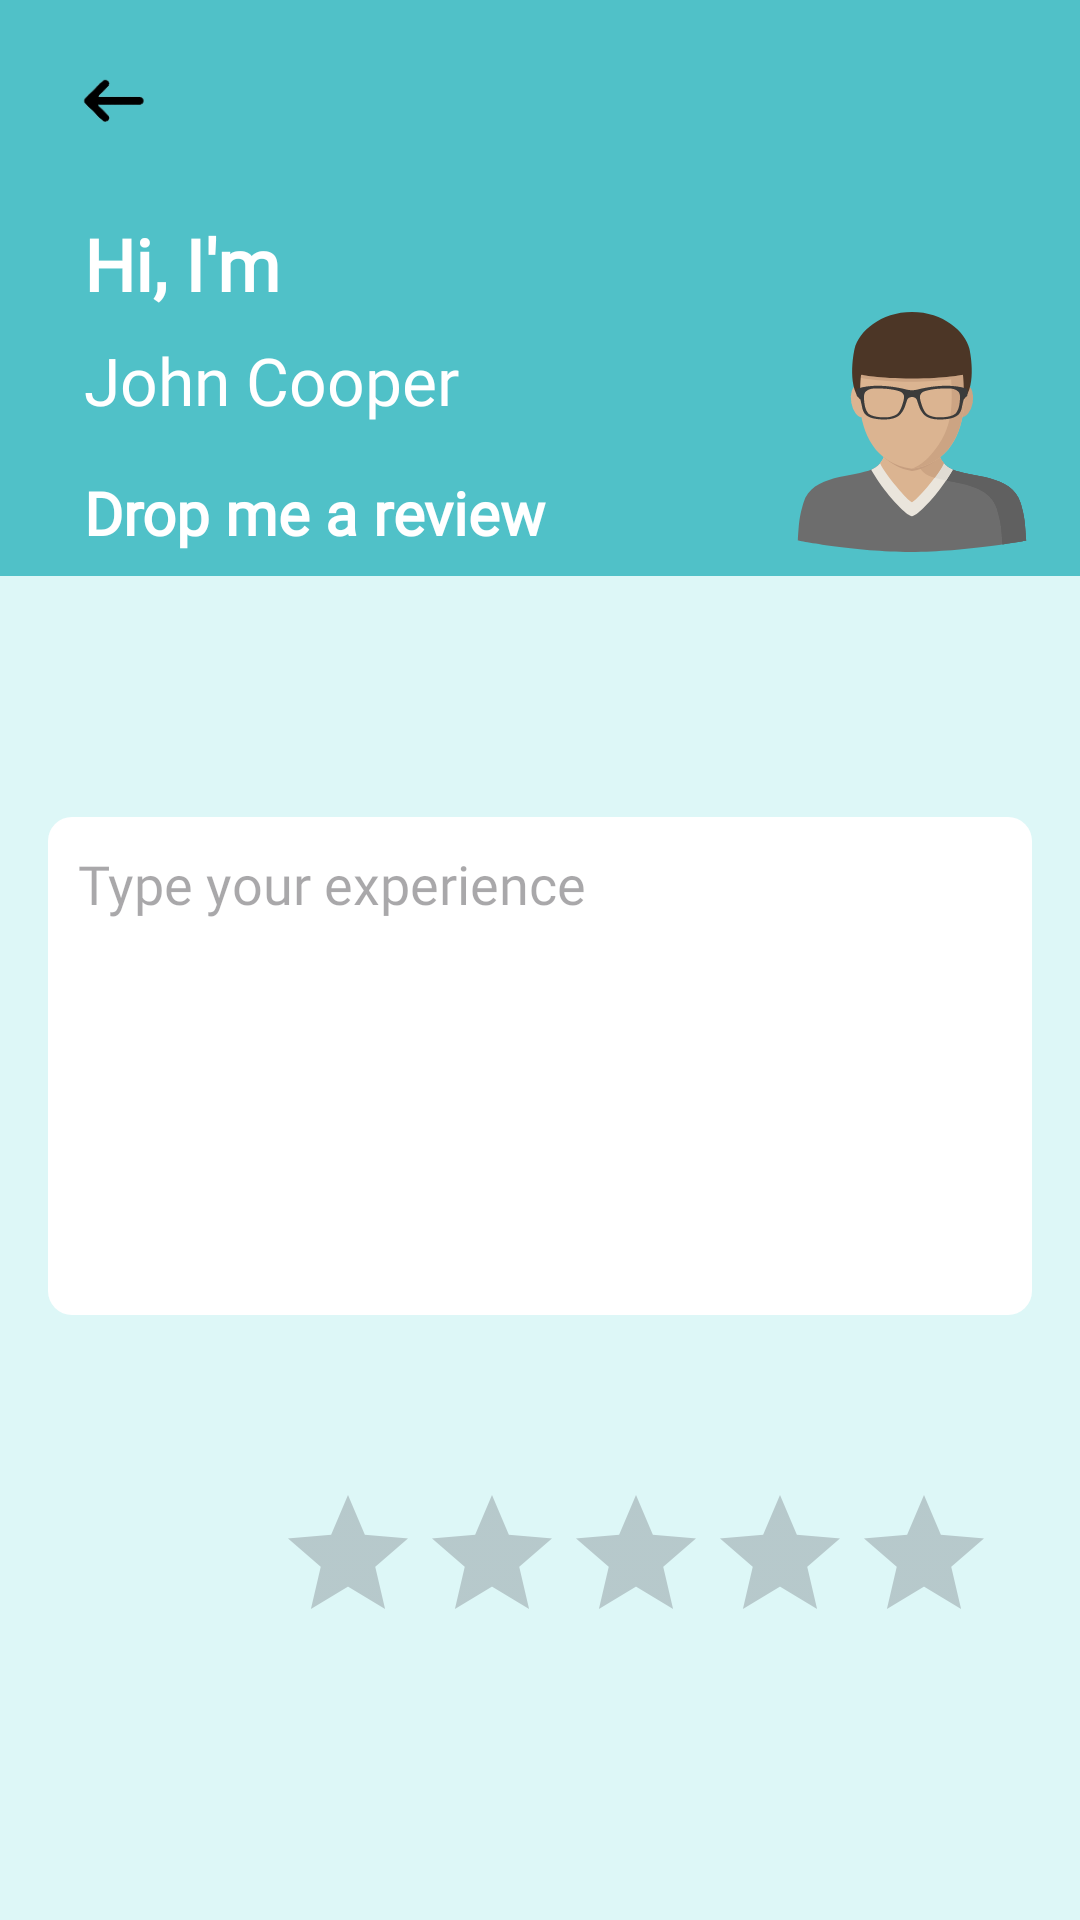

Icon bounding boxes for this 1080px x 1920px phone screenshot, format (x1, y1, x2, y2):
arrow: (84, 80, 144, 122)
